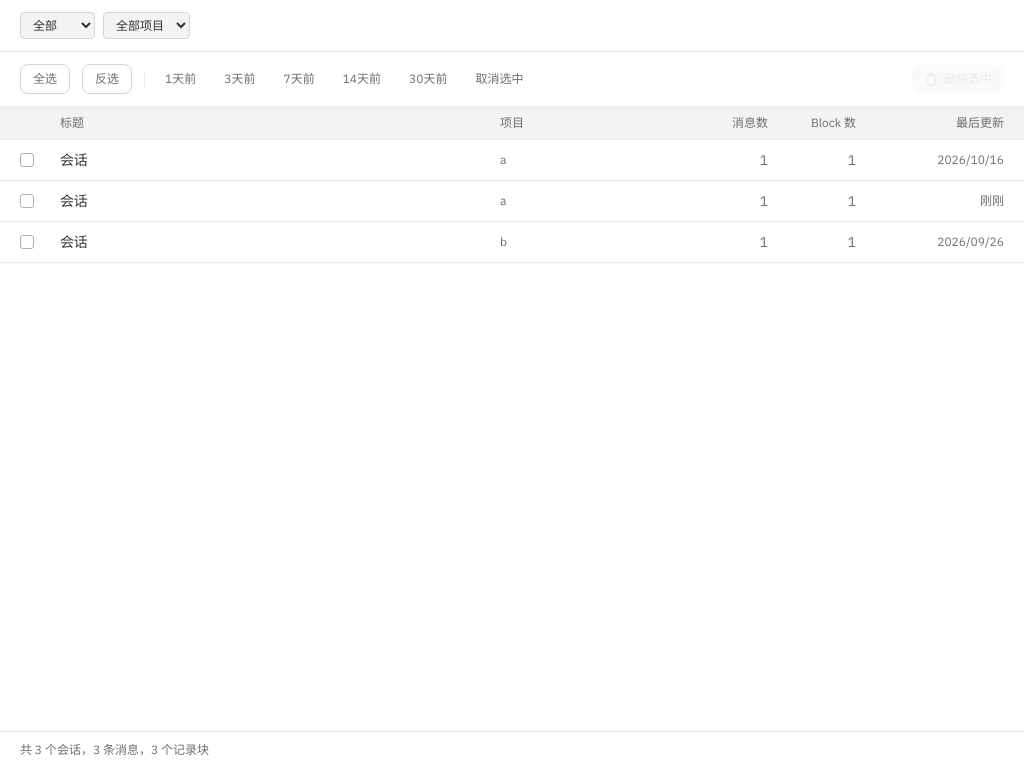
ConversationsDialog — 时间快捷选择 › 作用于当前筛选结果（筛选外的旧会话不被选中）
Select "组A" in the dropdown named "项目组筛选" at (58, 26), box [20, 12, 95, 39]
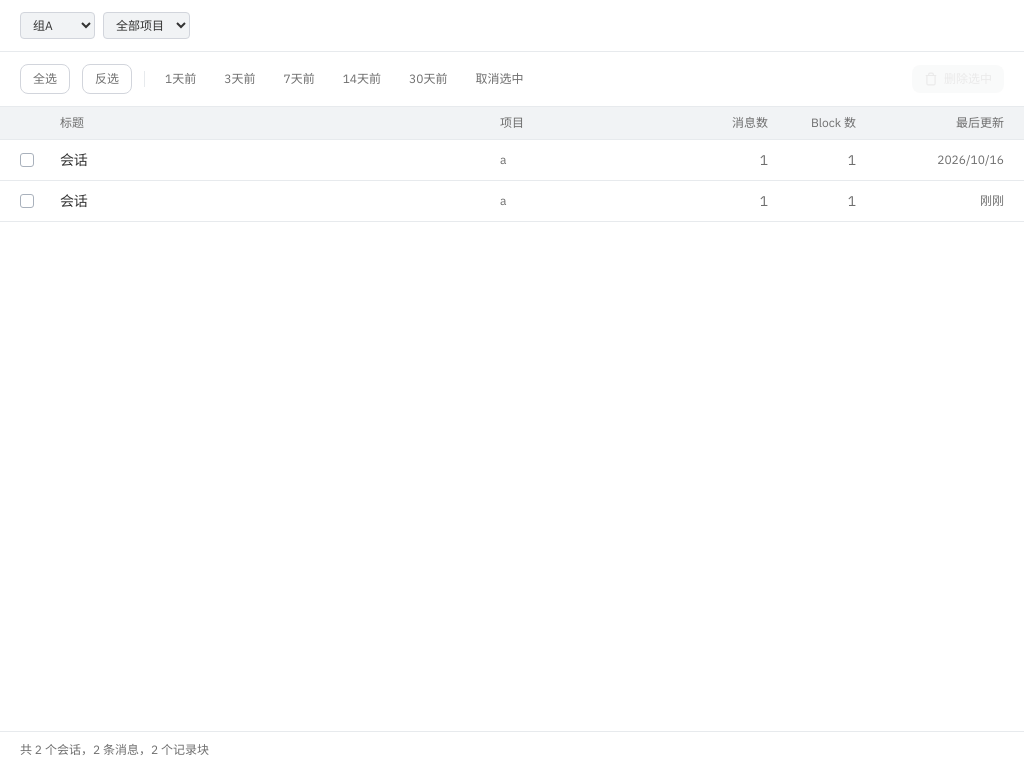
Click the button "7天前".
click(299, 79)  # box [275, 65, 323, 93]
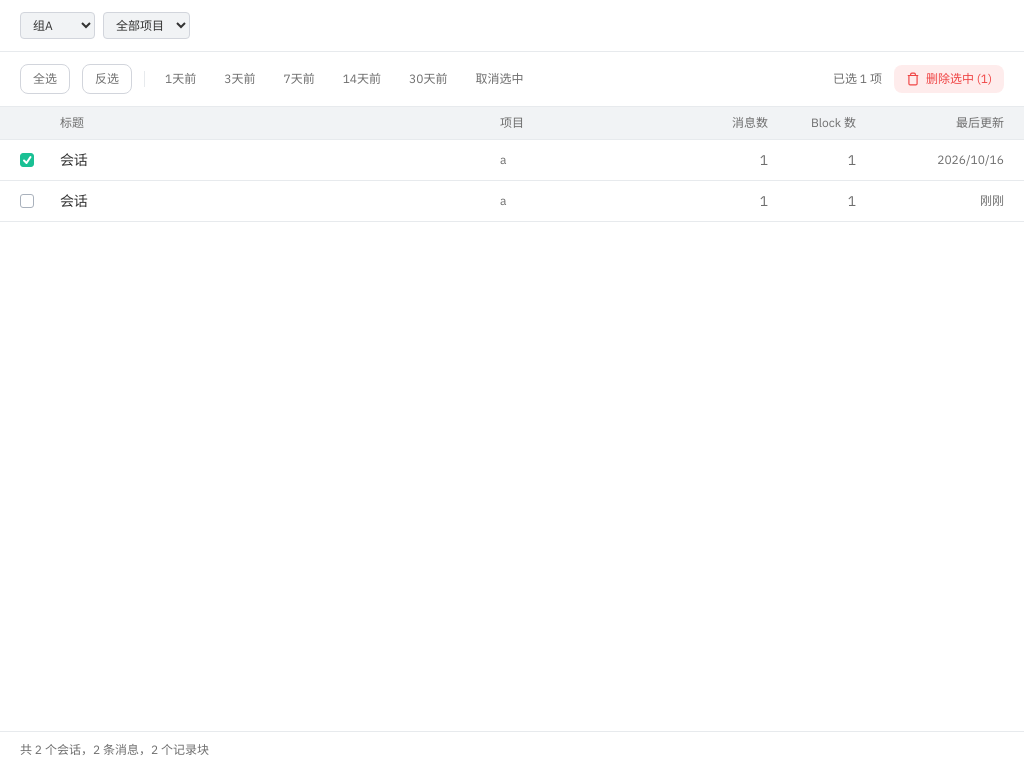
Expected: the checkbox labelled "会话 a 1 1 刚刚" is not checked, [20, 194, 34, 208]
Expected: the text "已选 1 项" is shown, [833, 71, 882, 87]
Expected: the checkbox labelled "会话 a 1 1 2026/10/16" is checked, [20, 153, 34, 167]
